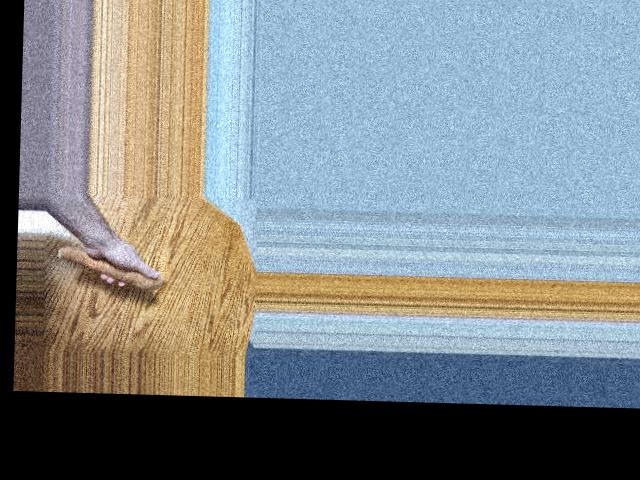sweet_potato: (55, 242, 164, 294)
